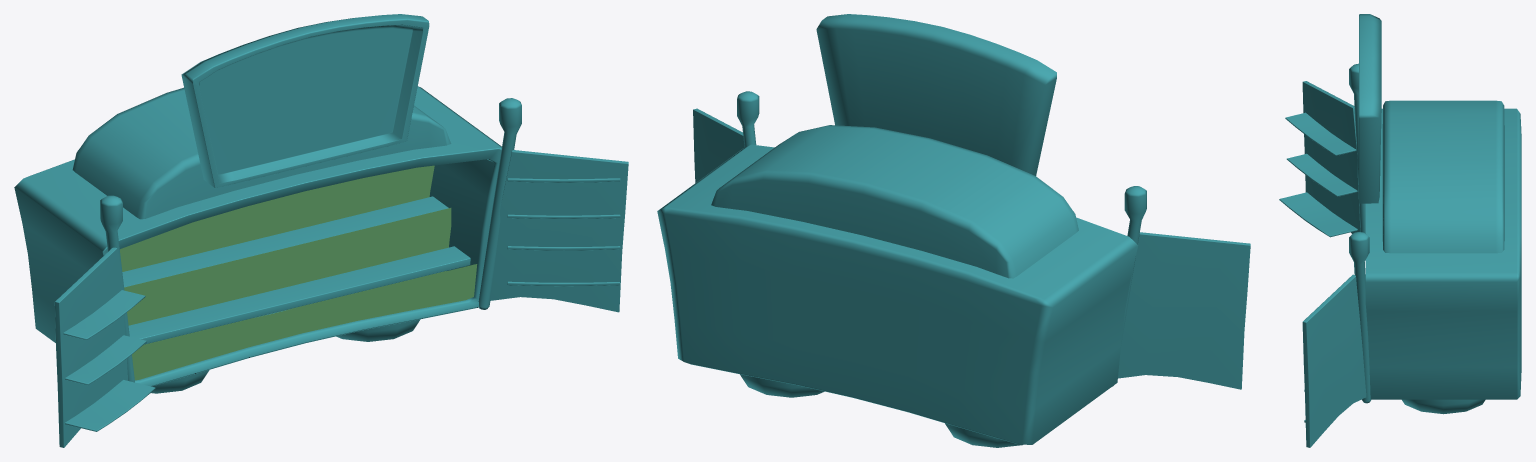
Rendered from Booth_01.fbx.
The picture shows the model from 3 angles, left to right: view 1: azimuth 30°, elevation 25°; view 2: azimuth 150°, elevation 25°; view 3: azimuth 270°, elevation 25°; orthographic projection. The views are drawn at different scales.
Visible parts, largest first — view 1: Booth; view 2: Booth; view 3: Booth.
Boxes of the visible parts, x1,y1,x2,y2 form: Booth: [14, 14, 628, 447]; Booth: [657, 14, 1250, 447]; Booth: [1279, 14, 1521, 447].
Size of the model in its own units: 3631 by 2151 by 1540.
